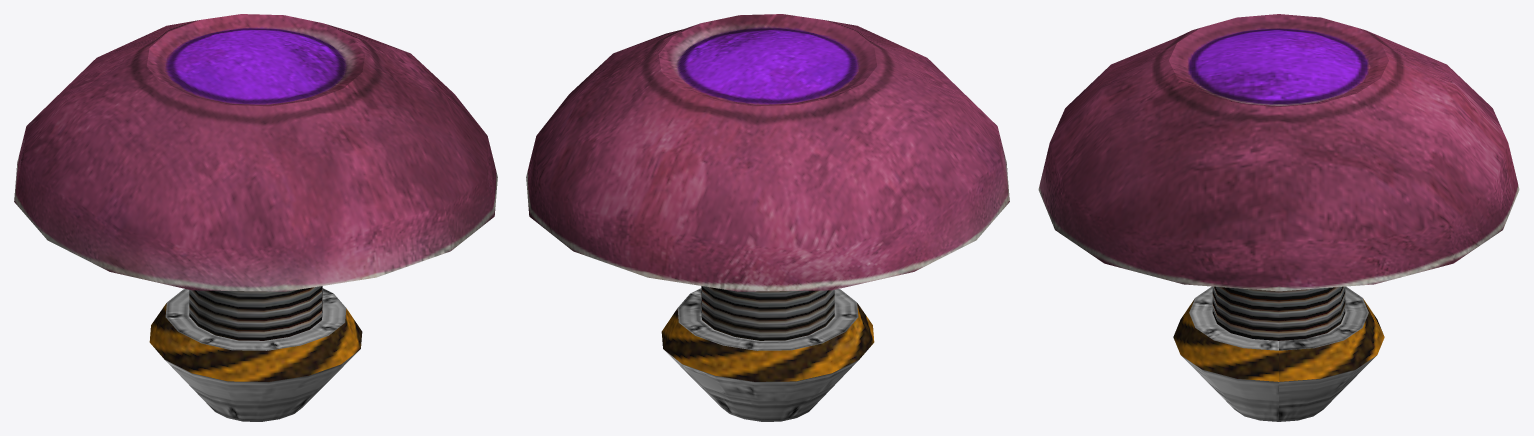
The model's file is spring.fbx.
3 views of the same model, side by side, from view 1: azimuth 30°, elevation 25°; view 2: azimuth 150°, elevation 25°; view 3: azimuth 270°, elevation 25° (orthographic).
Parts seen in each view (by area): view 1: Spring; view 2: Spring; view 3: Spring.
Boxes of the visible parts, box(x1,y1,x2,y2) form: Spring: box(14, 14, 497, 421); Spring: box(526, 14, 1009, 421); Spring: box(1038, 14, 1519, 421).
Size of the model in its own units: 1.68 by 1.39 by 1.68.
